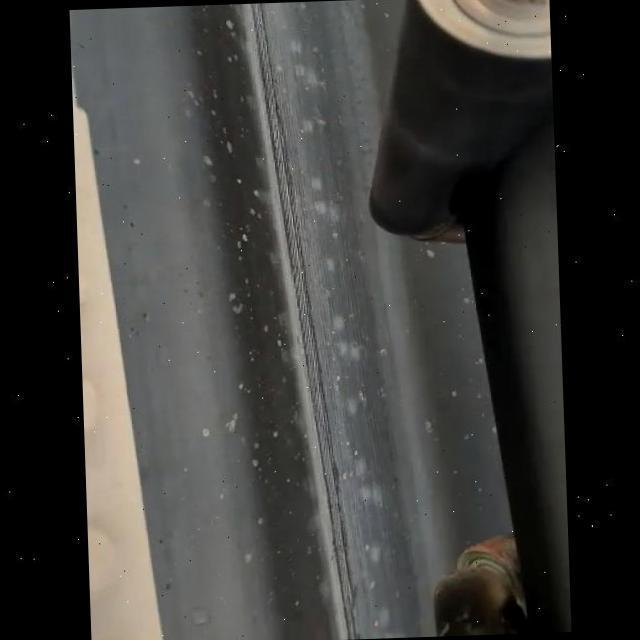Wear: (248, 0, 366, 640)
